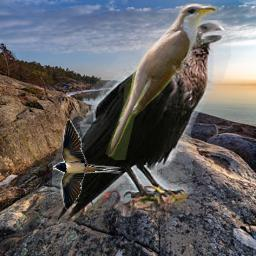Crow: (52, 20, 231, 222)
Cuckoo: (104, 3, 217, 160)
Swallow: (53, 118, 122, 211)
